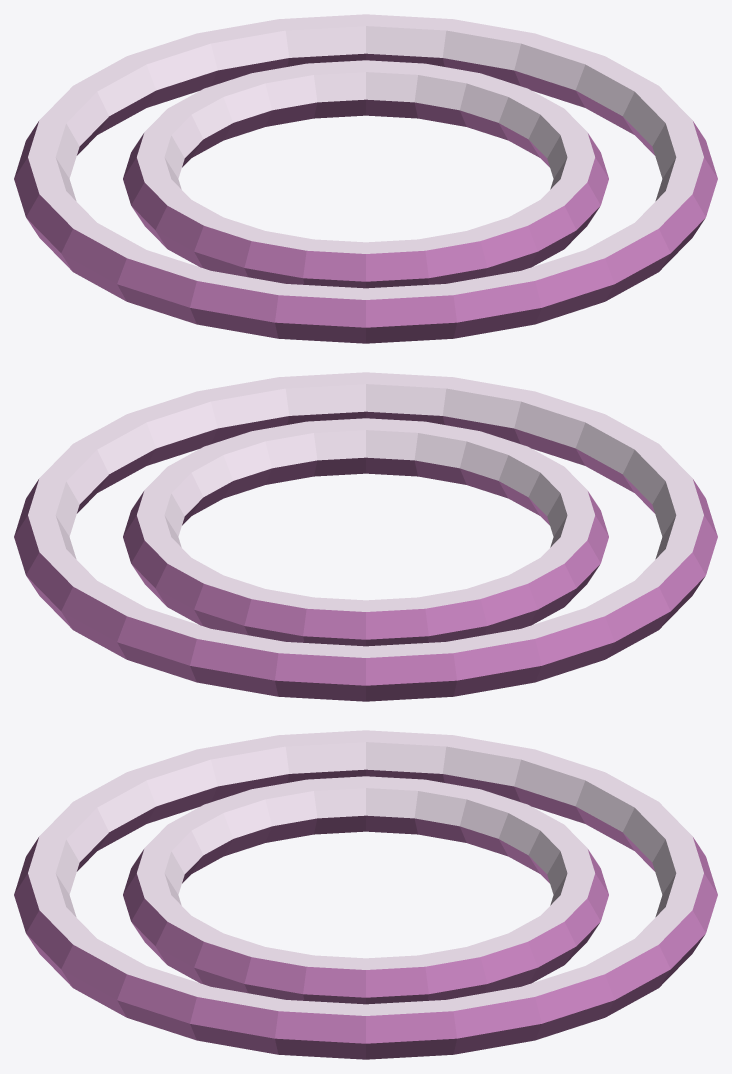
The model's file is onion.glb.
3 views of the same model, one above another, from view 1: azimuth 30°, elevation 25°; view 2: azimuth 150°, elevation 25°; view 3: azimuth 270°, elevation 25° (orthographic).
Parts seen in each view (by area): view 1: onion; view 2: onion; view 3: onion.
Part boxes in pixels (x1,y1,x2,y2): onion: [14, 14, 717, 343]; onion: [14, 372, 717, 701]; onion: [14, 730, 717, 1059].
Size of the model in its own units: 0.304 by 0.0208 by 0.304.
